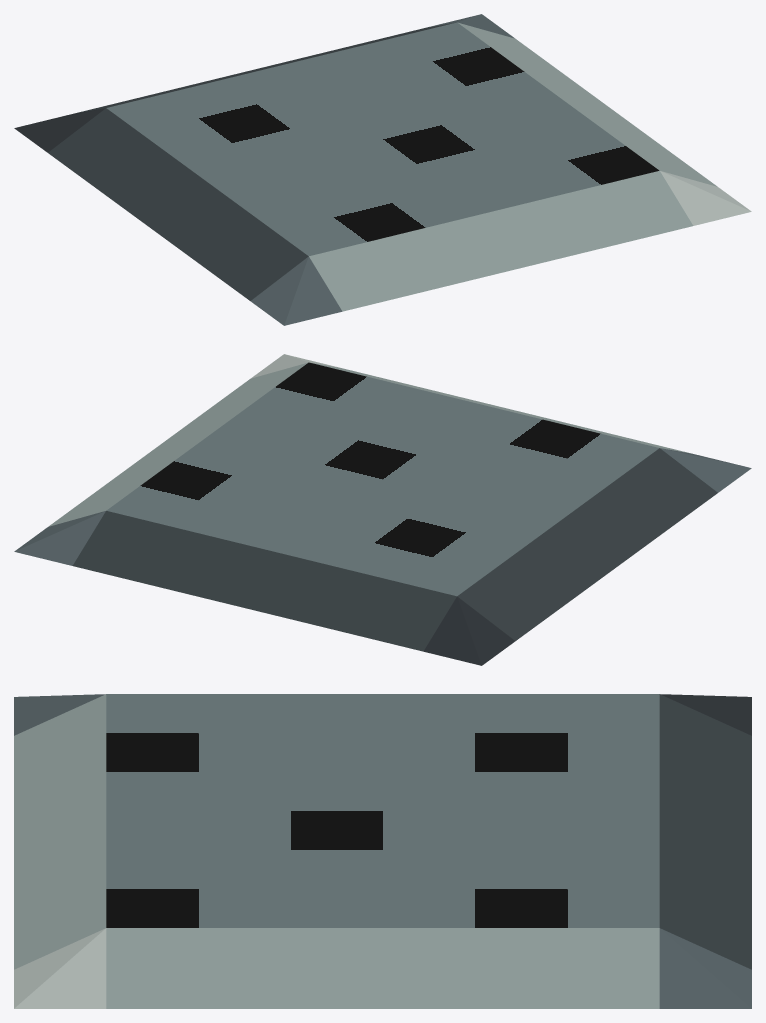
Rendered from floor_spike_trap.gltf.
3 views of the same model, one above another, from view 1: azimuth 30°, elevation 25°; view 2: azimuth 150°, elevation 25°; view 3: azimuth 270°, elevation 25° (orthographic). The views are drawn at different scales.
Visible parts, largest first — view 1: floor_spike_trap; view 2: floor_spike_trap; view 3: floor_spike_trap.
Part boxes in pixels (<box>): floor_spike_trap: <box>14,14,751,325</box>; floor_spike_trap: <box>14,354,751,665</box>; floor_spike_trap: <box>14,694,751,1008</box>.
Bounding box in the file's own units: 1 × 0.0625 × 1.
